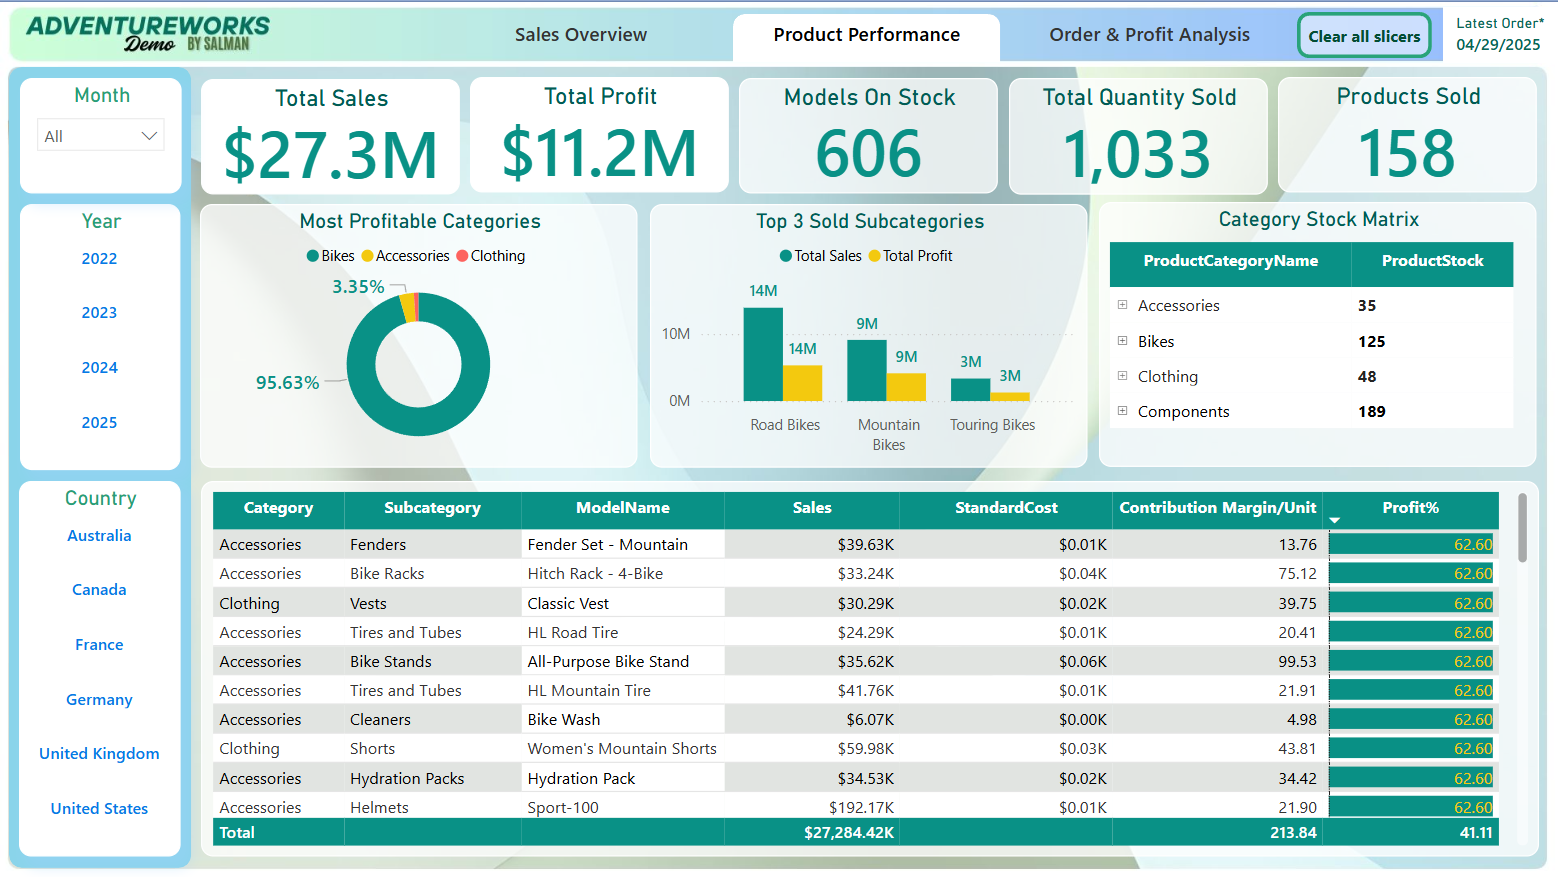

The page's visual inventory and layout, read from the dashboard file:
{"tool":"powerbi","page":{"name":"Product Performance","canvas":[1280,720],"ordinal":1},"visuals":[{"type":"shape","box":[7.4,53.8,150.4,659],"z":0,"group":"g1"},{"type":"clusteredColumnChart","title":"Top 3 Sold Subcategories","fields":{"Category":["DimProduct.ProductSubcategoryName"],"Y":["_Mesures.Total Sales","_Mesures.Total Profit"]},"box":[534.7,166.6,360,217.4],"z":0},{"type":"advancedSlicerVisual","title":"Year","fields":{"Values":["DimDate.CalendarYear"]},"box":[16.3,166.5,131.7,218.9],"z":1000,"group":"g1"},{"type":"tableEx","title":"Total Sales, Total Profit and Net Profit Margin %","fields":{"Values":["DimProduct.ProductCategoryName","DimProduct.ProductSubcategoryName","DimProduct.ModelName","_Mesures.Total Sales","DimProduct.StandardCost","_Mesures.Contribution Margin Per Unit","_Mesures.Profit%"]},"box":[165.5,394,1101.2,309.1],"z":1000},{"type":"actionButton","title":"SalesOverviewButton","box":[368.2,10,221,40],"z":2000},{"type":"slicer","title":"Month","fields":{"Values":["DimDate.EnglishMonthName"]},"box":[16.1,62.5,133.2,95],"z":2000,"group":"g1"},{"type":"card","title":"Models On Stock","fields":{"Values":["_Mesures.ProductStock"]},"box":[608.5,62.2,213,94.7],"z":3000},{"type":"advancedSlicerVisual","title":"Country","fields":{"Values":["DimCustomer.EnglishCountryRegionName"]},"box":[15.8,394.5,132.7,309.1],"z":3000,"group":"g1"},{"type":"donutChart","title":"Most Profitable Categories","fields":{"Category":["DimProduct.ProductCategoryName"],"Y":["_Mesures.Total Profit"]},"box":[164.9,165.8,360,217.2],"z":4000},{"type":"actionButton","title":"OnP Button","box":[836.4,10,220.2,40],"z":5000},{"type":"card","title":"Products Sold","fields":{"Values":["_Mesures.DistinctProductCount"]},"box":[1052,62,213,94.9],"z":6000},{"type":"card","title":"Total Quantity Sold","fields":{"Values":["_Mesures.Total Quantity Sold"]},"box":[830.2,62.2,213,95.6],"z":7000},{"type":"actionButton","title":"PP Button","box":[603.3,10,220.2,40],"z":8000},{"type":"pivotTable","title":"Category Stock Matrix","fields":{"Values":["_Mesures.ProductStock"],"Rows":["DimProduct.ProductCategoryName Hierarchy.ProductCategoryName","DimProduct.ProductCategoryName Hierarchy.ProductSubcategoryName","DimProduct.ProductCategoryName Hierarchy.ModelName"]},"box":[904.4,164.9,360,218.1],"z":9000},{"type":"actionButton","title":"Slicer Button","box":[1067,7,111,38],"z":10000},{"type":"card","title":"Total Sales","fields":{"Values":["_Mesures.Total Sales"]},"box":[165,63,213,94.9],"z":11000},{"type":"card","title":"Total Profit","fields":{"Values":["_Mesures.Total Discount"]},"box":[386.8,62.1,213,94.9],"z":12000},{"type":"group","id":"g1","title":"Group 1","box":[7.4,53.8,150.4,659],"z":13000},{"type":"card","title":"Latest Order*","fields":{"Values":["_Mesures.MaxDate"]},"box":[1187,4,93,45],"z":14000}]}

Visuals, with their boxes in screenshot pixels (x1, y1, x2, y2), scaled from the page's 1280x720 canvas onto the 1558x877 screenshot:
shape: 9,66,192,868
"Top 3 Sold Subcategories" clusteredColumnChart: 651,203,1089,468
"Year" advancedSlicerVisual: 20,203,180,469
"Total Sales, Total Profit and Net Profit Margin %" tableEx: 201,480,1542,856
"SalesOverviewButton" actionButton: 448,12,717,61
"Month" slicer: 20,76,182,192
"Models On Stock" card: 741,76,1000,191
"Country" advancedSlicerVisual: 19,481,181,857
"Most Profitable Categories" donutChart: 201,202,639,467
"OnP Button" actionButton: 1018,12,1286,61
"Products Sold" card: 1280,76,1540,191
"Total Quantity Sold" card: 1011,76,1270,192
"PP Button" actionButton: 734,12,1002,61
"Category Stock Matrix" pivotTable: 1101,201,1539,467
"Slicer Button" actionButton: 1299,9,1434,55
"Total Sales" card: 201,77,460,192
"Total Profit" card: 471,76,730,191
"Group 1" group: 9,66,192,868
"Latest Order*" card: 1445,5,1557,60
